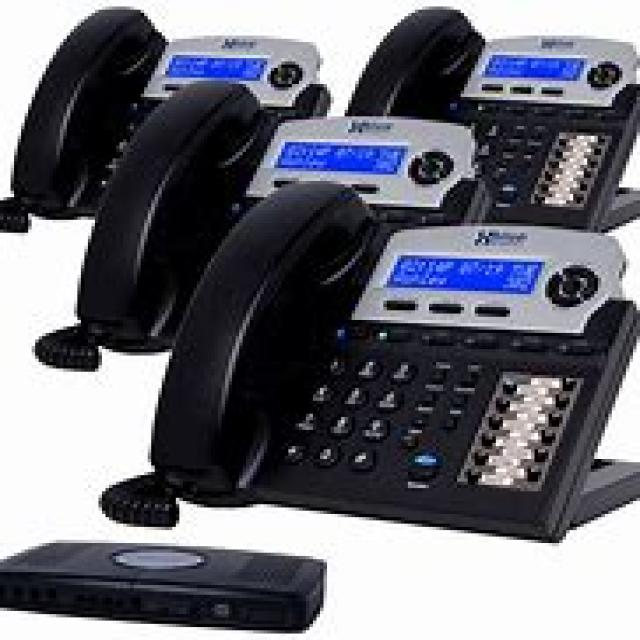mobile: (173, 185, 634, 531), (102, 80, 470, 372), (17, 3, 329, 235), (347, 6, 640, 246)
